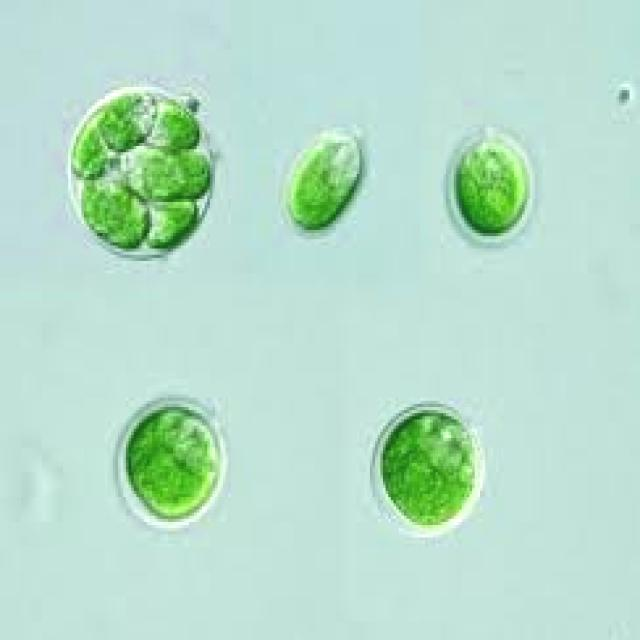Green Algae: (115, 395, 228, 531), (375, 404, 477, 534), (281, 128, 367, 240), (451, 124, 530, 239), (84, 171, 144, 245), (116, 146, 186, 193), (100, 90, 154, 146), (144, 196, 200, 245), (144, 99, 202, 146), (71, 121, 115, 174)
